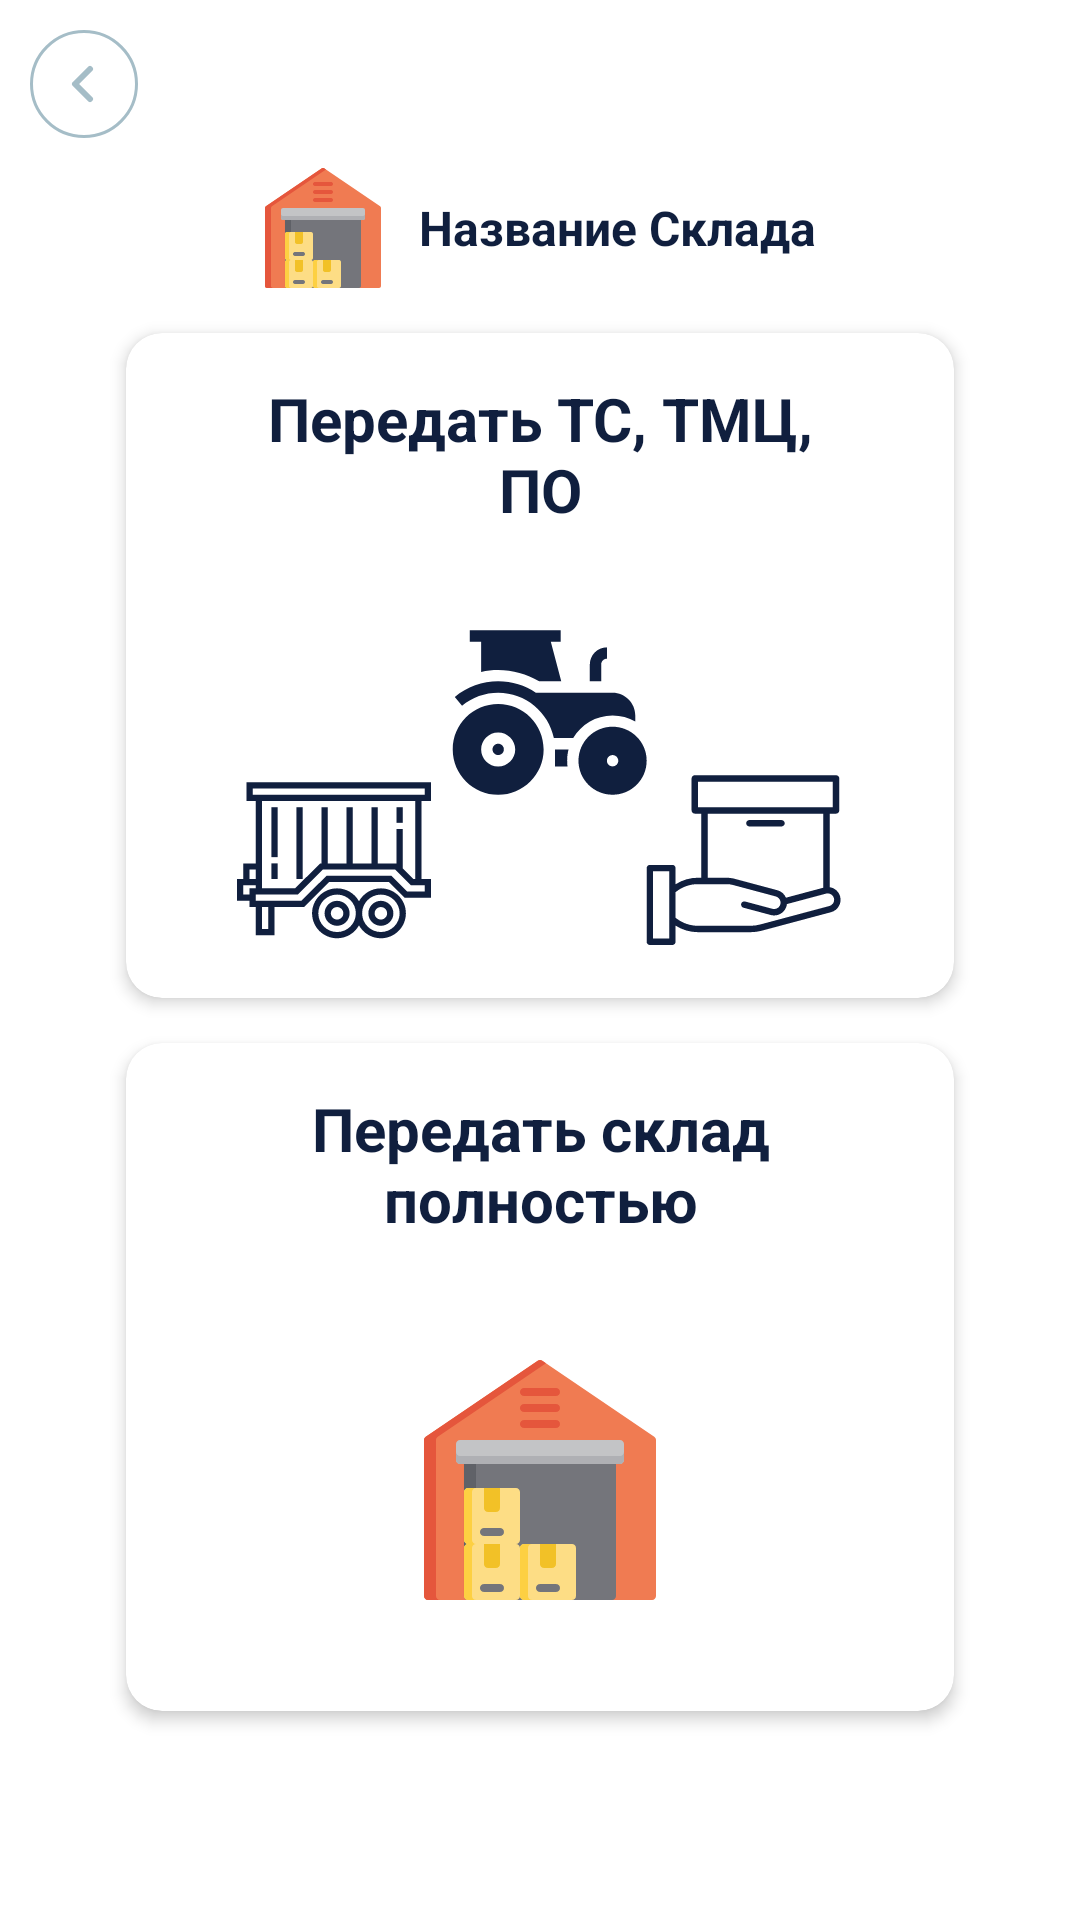

Where to tap for icons on this 1080w x 1920h app screen, as [x,y]:
warehouse: [540,1480]
